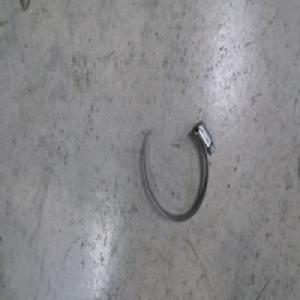AdjustableClamp: (139, 118, 215, 226)
